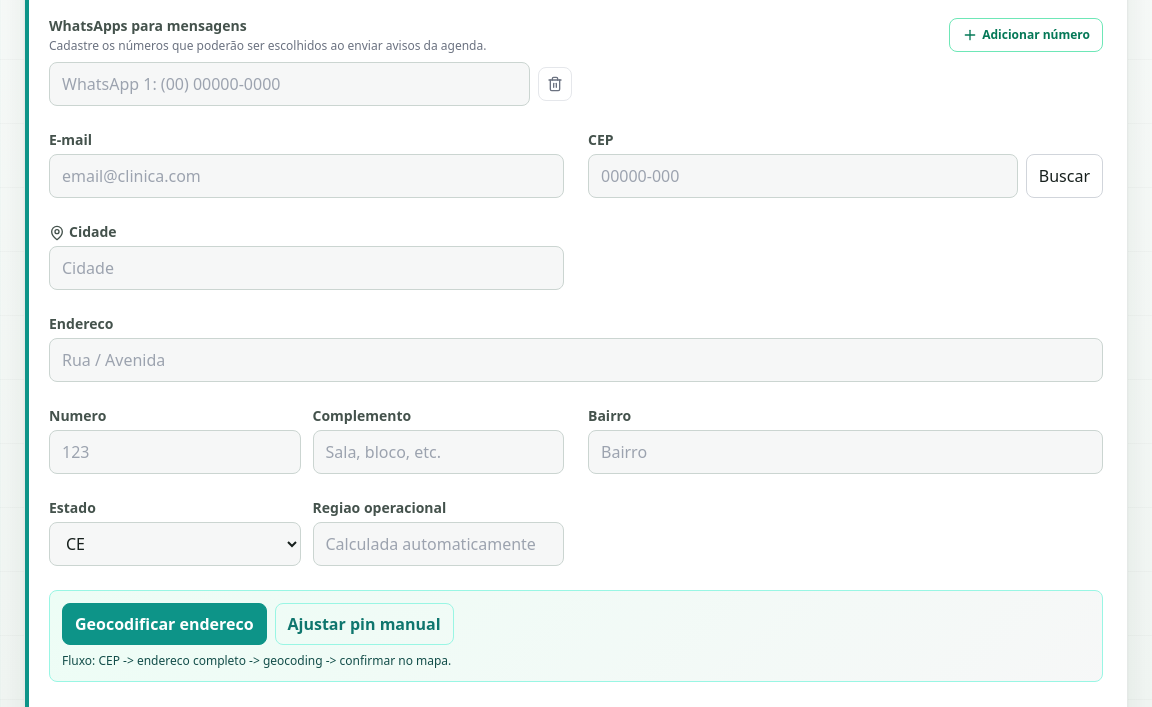
Test: geocoding exige ação explícita na clínica › resposta sem coordenadas não confirma zero nem sobrescreve endereço
The width and height of the screenshot is (1152, 707).
(page scrolled)
Type "Rua Sintética" into the field with placeholder "Rua / Avenida" at (576, 360), box [49, 338, 1103, 382]
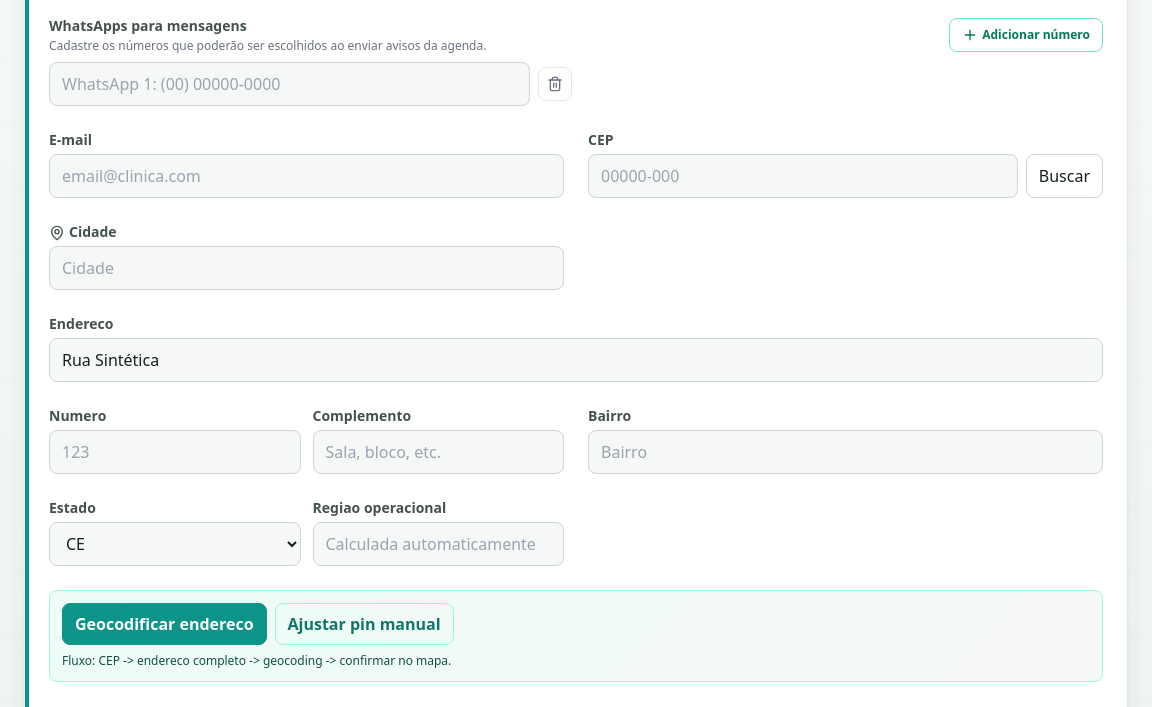
Type "99" into the field with placeholder "123" at (175, 452), box [49, 430, 300, 474]
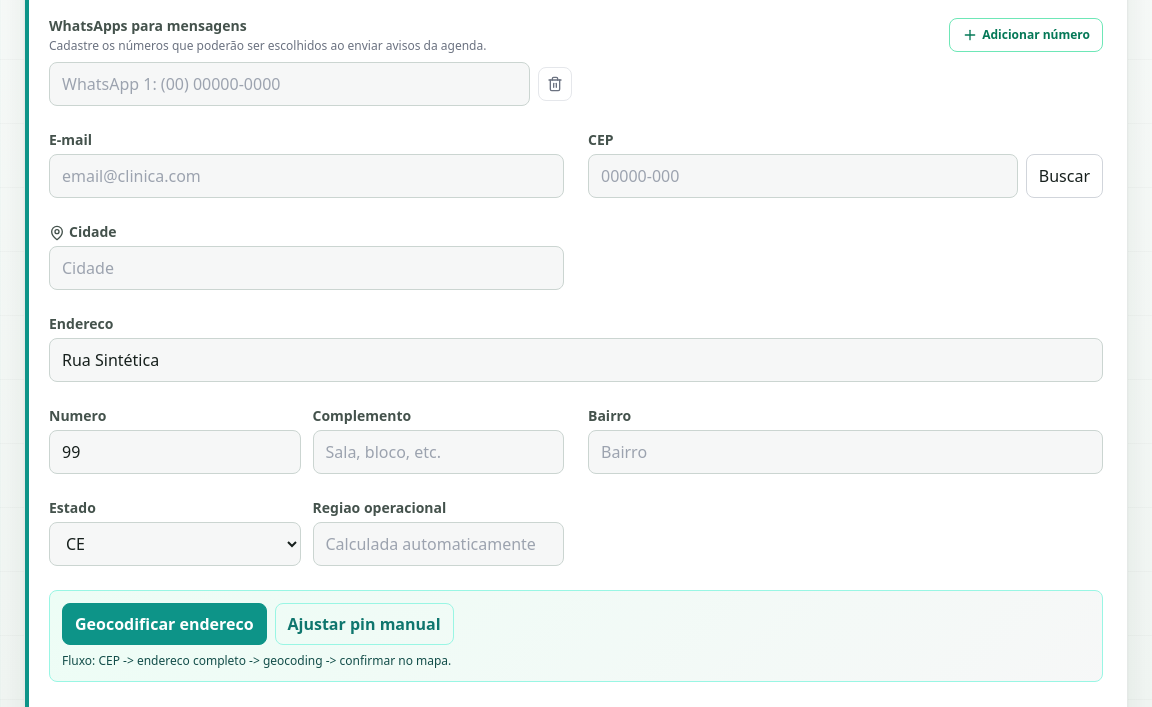
Type "Fortaleza" into the field with placeholder "Cidade" at (306, 268), box [49, 246, 564, 290]
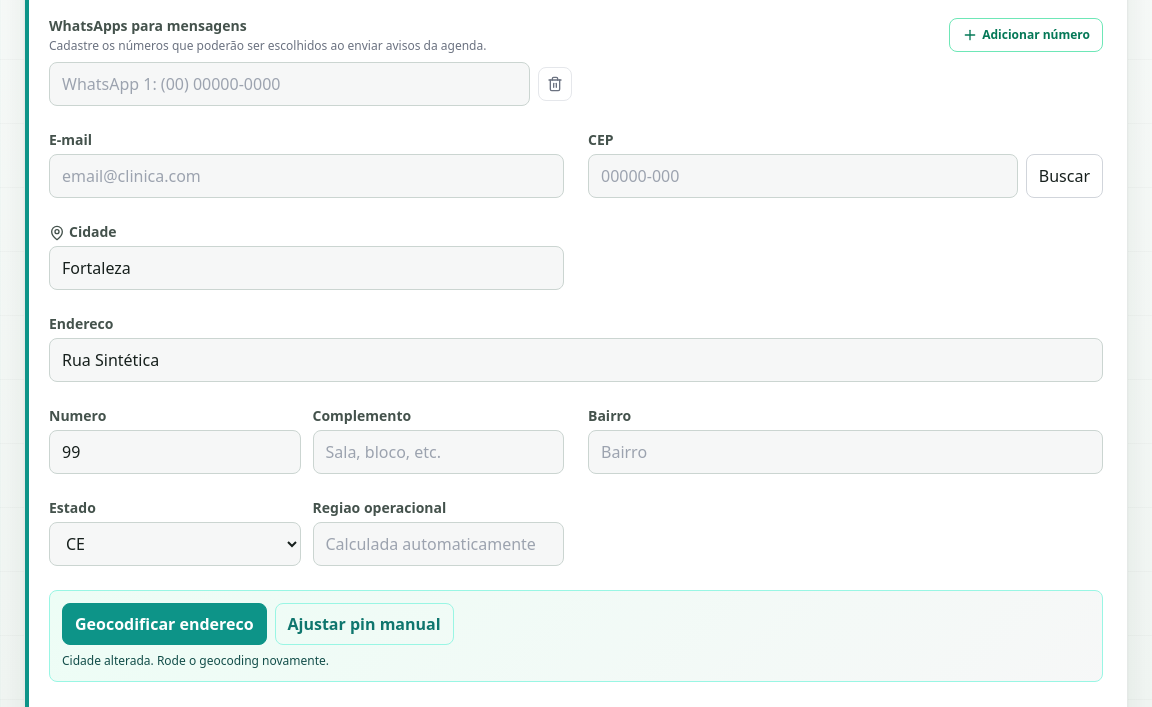
Click the button "Geocodificar endereco" at (164, 624), box [62, 603, 266, 645]
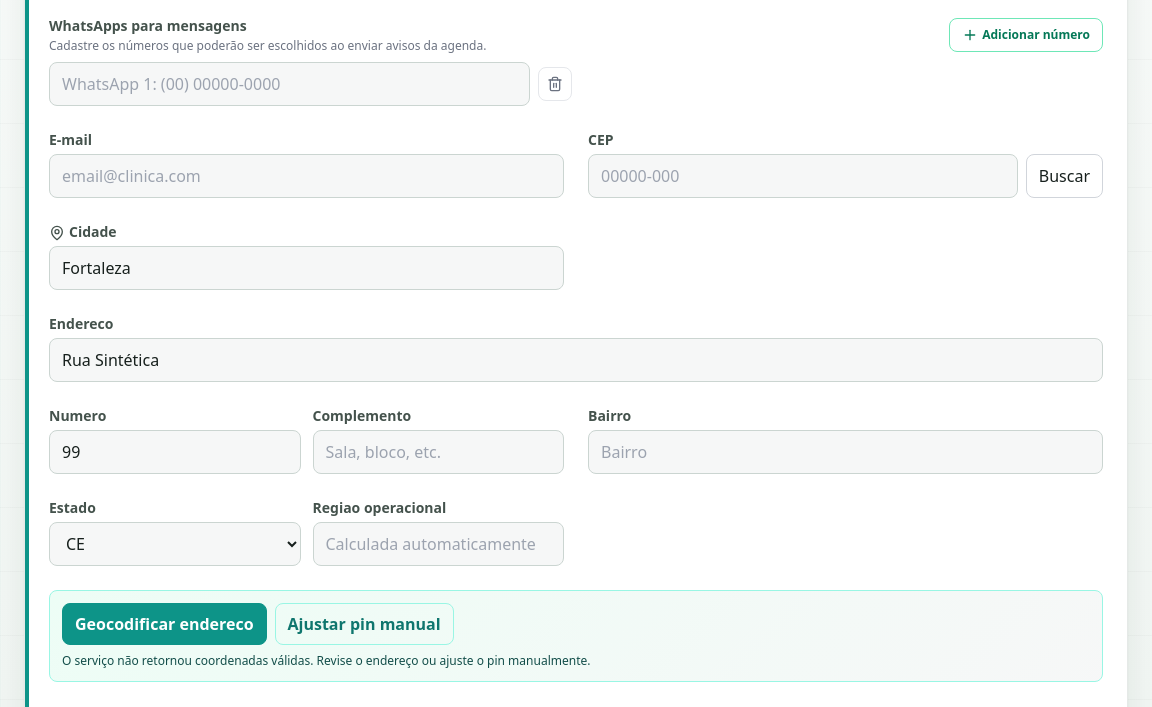
Expected: the text "não retornou coordenadas válidas" is shown, [62, 652, 590, 669]
